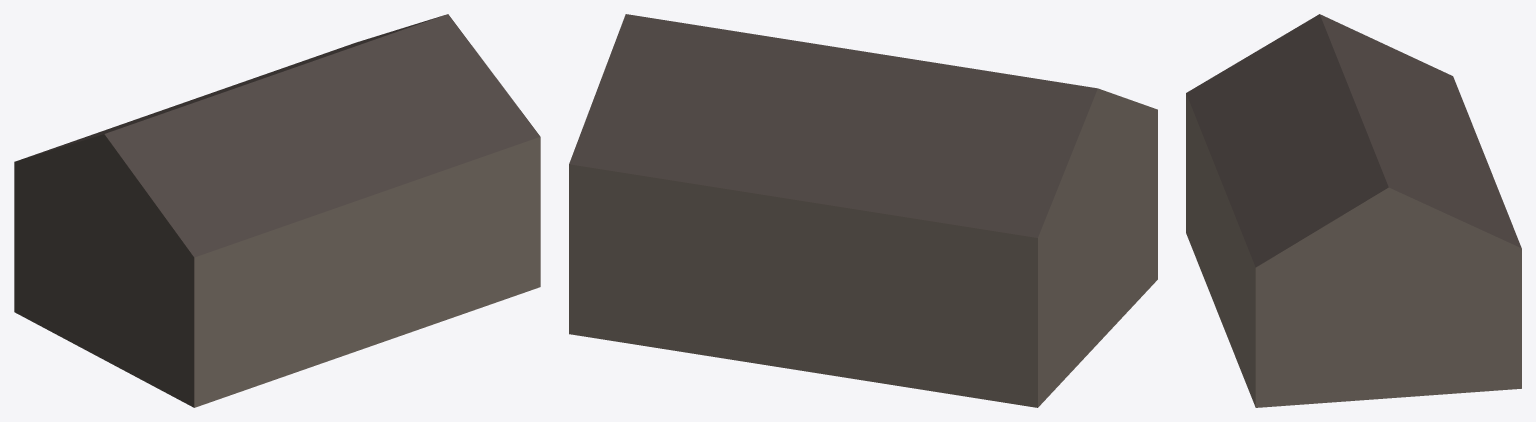
3 renders of one model, left to right at view 1: azimuth 30°, elevation 25°; view 2: azimuth 150°, elevation 25°; view 3: azimuth 270°, elevation 25°, orthographic. The views are drawn at different scales.
Parts seen in each view (by area): view 1: HP-w449058938; view 2: HP-w449058938; view 3: HP-w449058938.
Boxes of the visible parts, x1=… form: HP-w449058938: x1=14, y1=14, x2=540, y2=407; HP-w449058938: x1=569, y1=14, x2=1157, y2=407; HP-w449058938: x1=1186, y1=14, x2=1521, y2=407.
Bounding box in the file's own units: 26.33 × 13.53 × 19.51.
